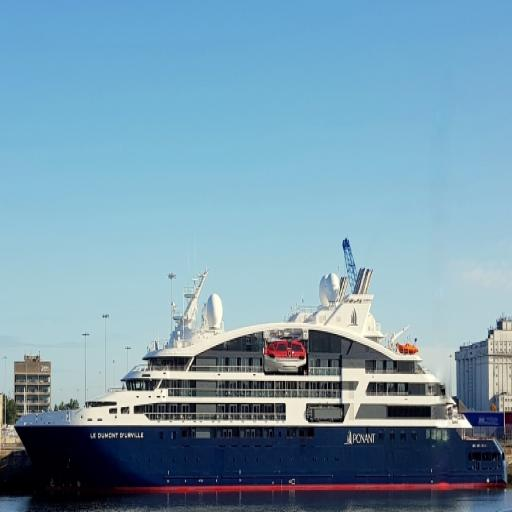cruises: (12, 241, 508, 499)
